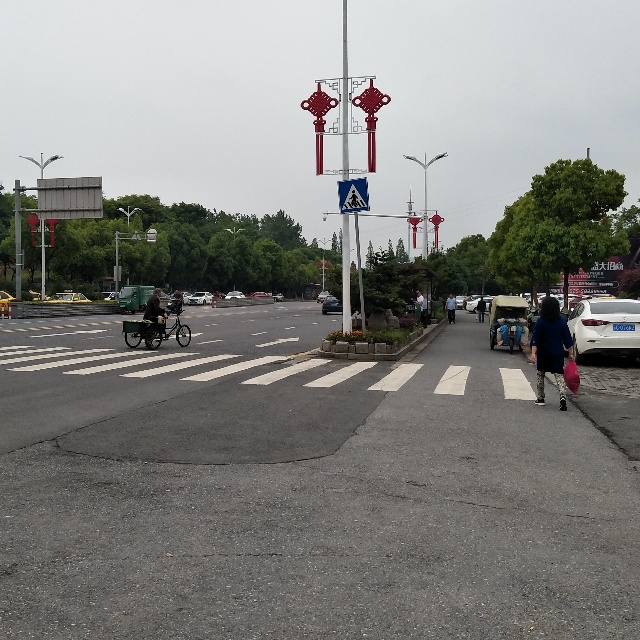crosswalk: (337, 182, 366, 212)
